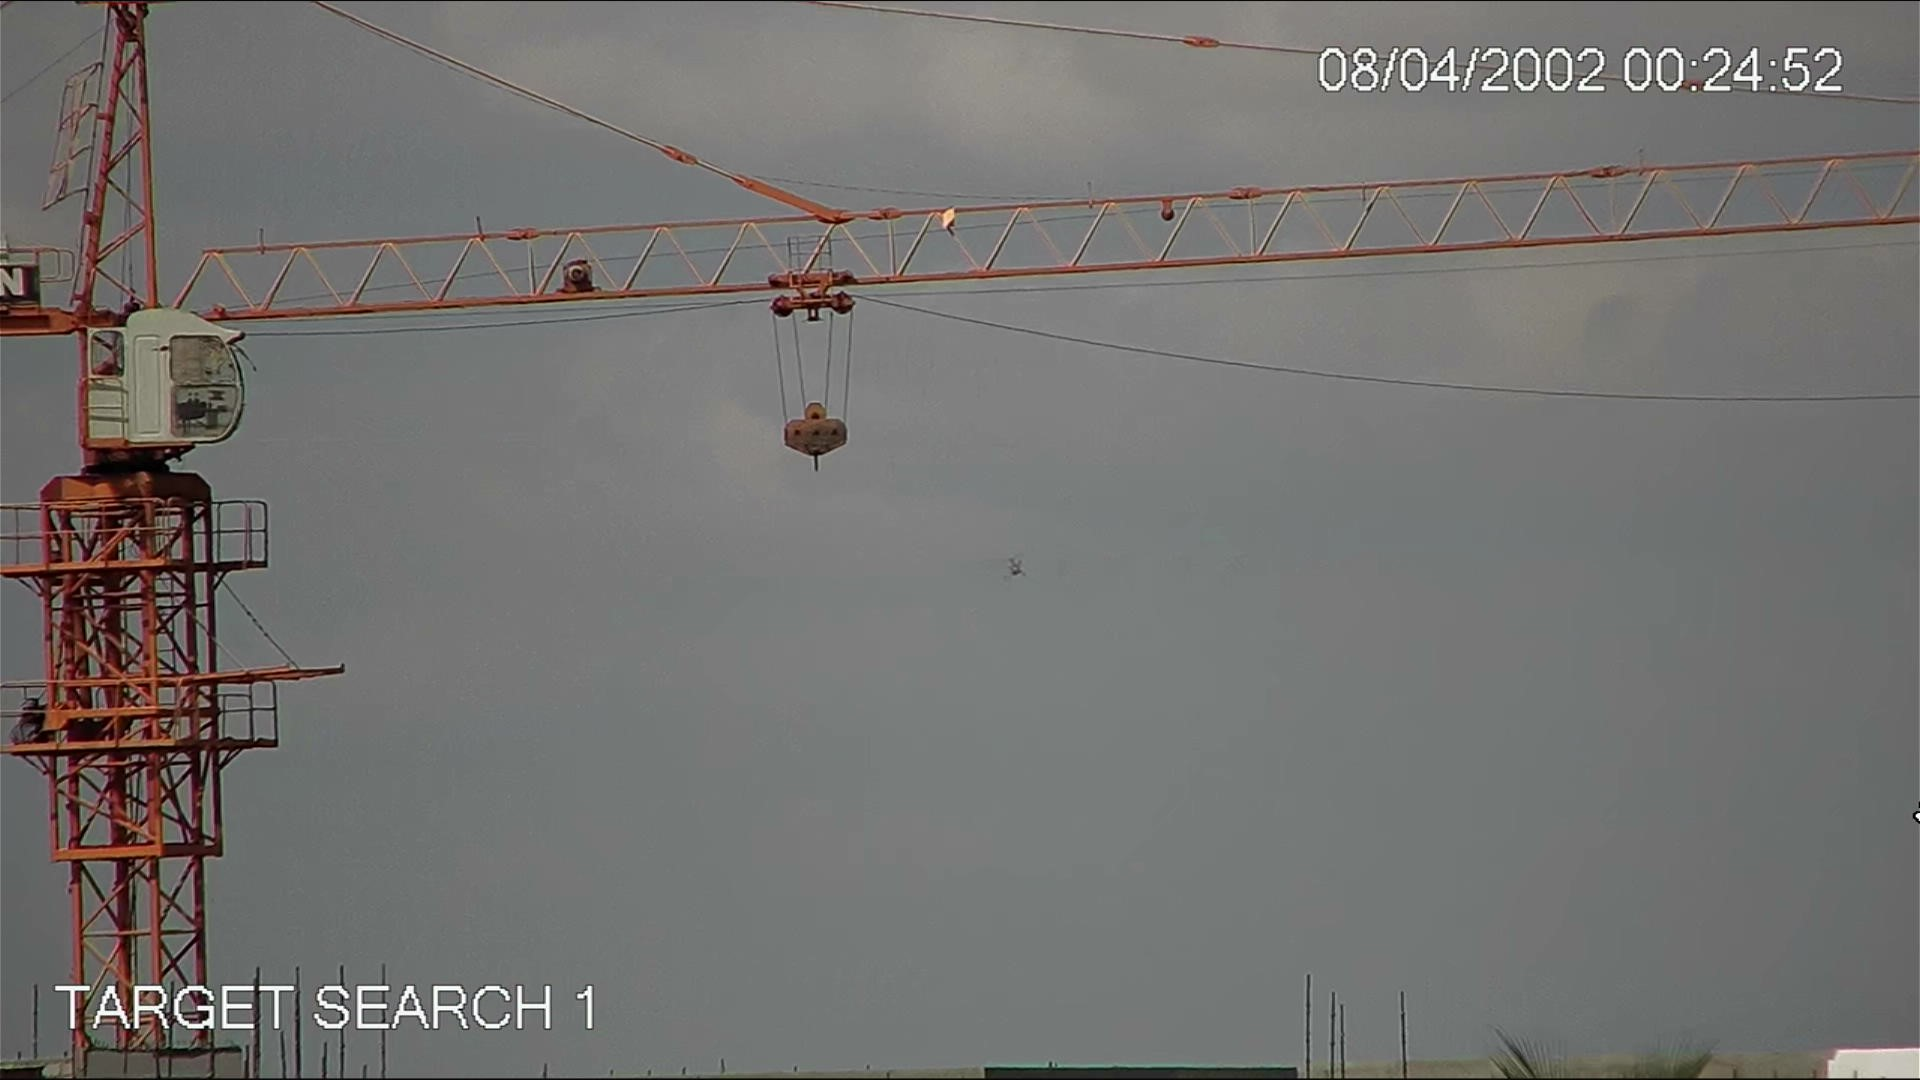SU_30: (990, 549, 1031, 582)
